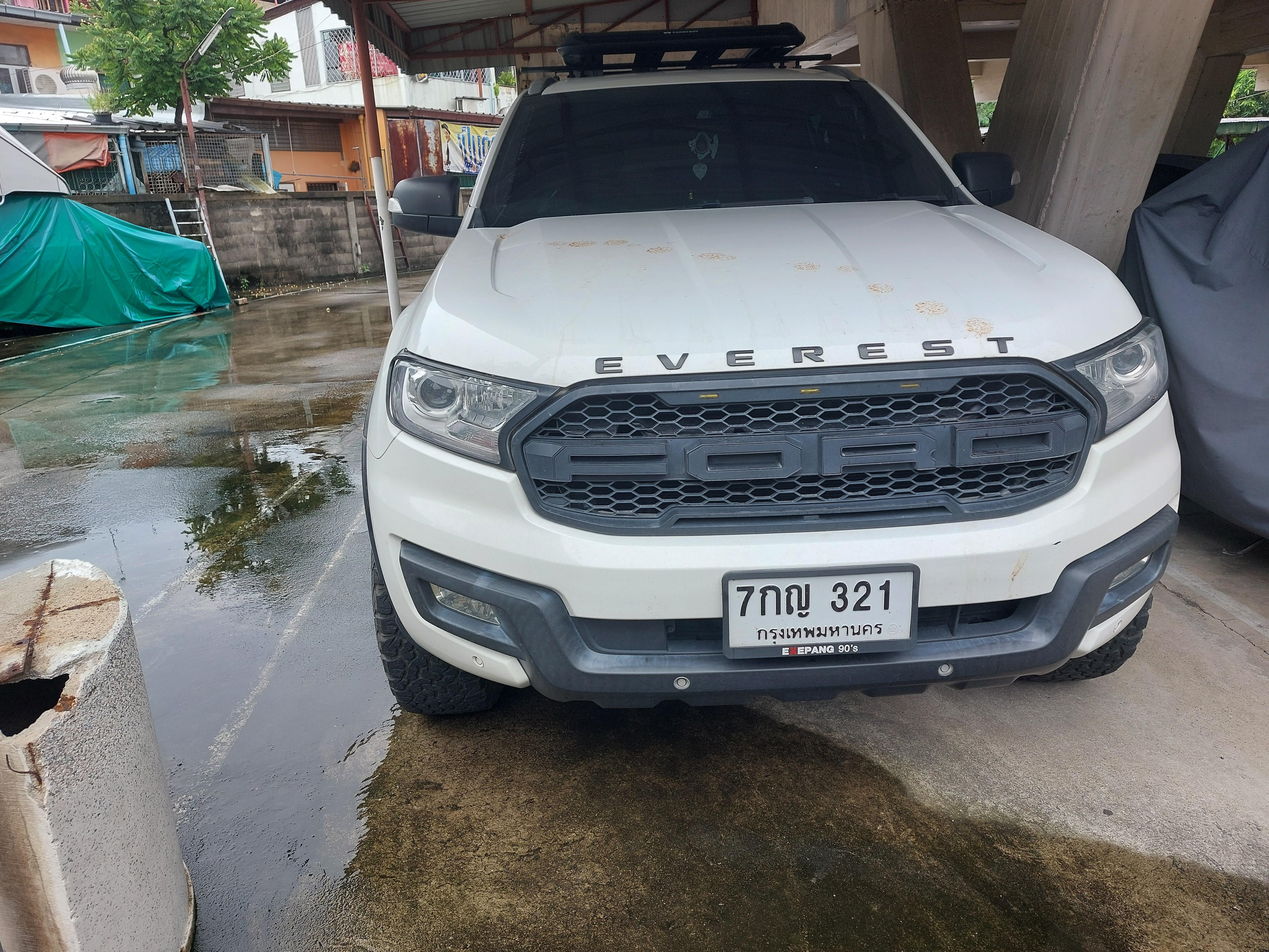license-plate: (720, 564, 928, 656)
